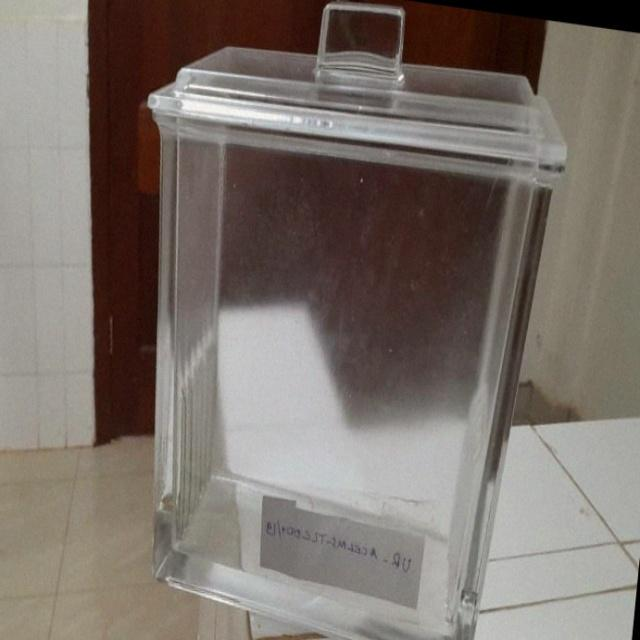TLC Tank: (101, 0, 594, 640)
